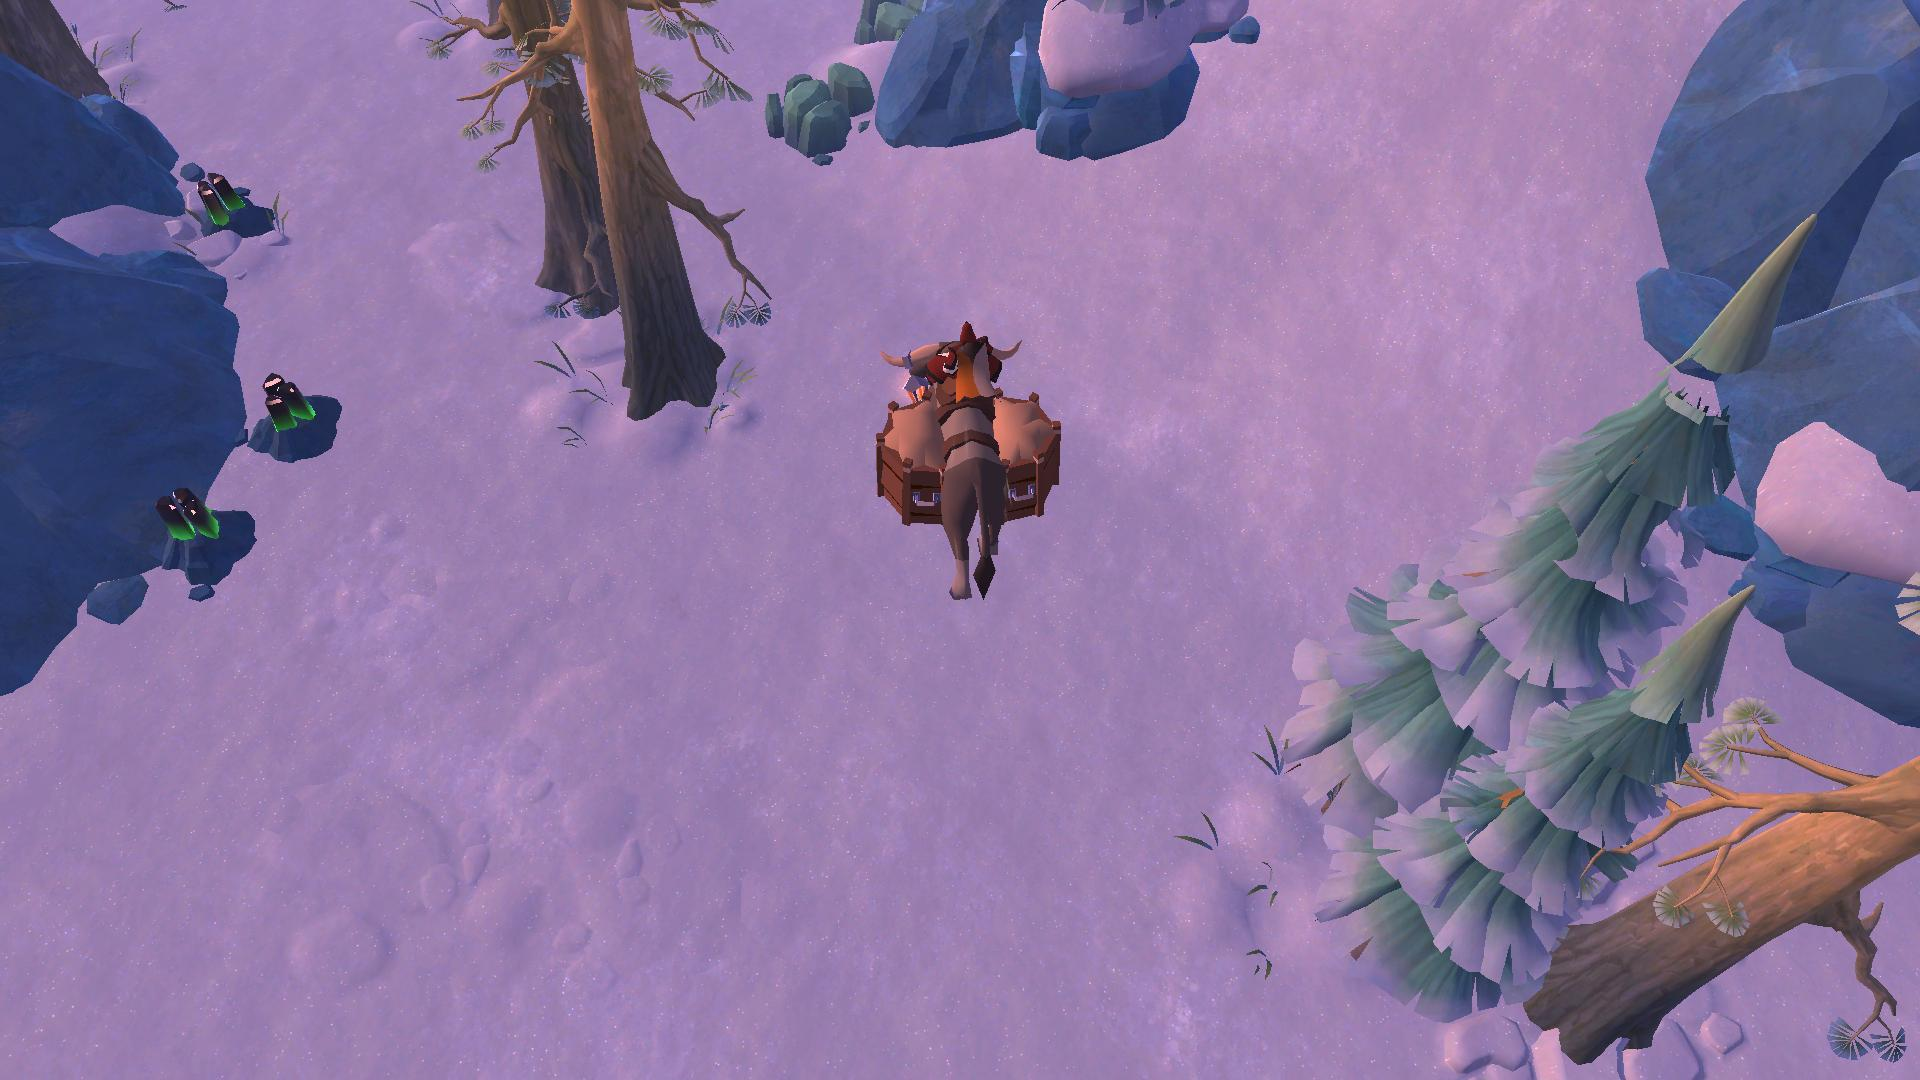ore_t3: (150, 480, 224, 558), (256, 364, 311, 440), (195, 175, 252, 231)
rock_t3: (760, 63, 880, 164), (849, 0, 932, 46)
